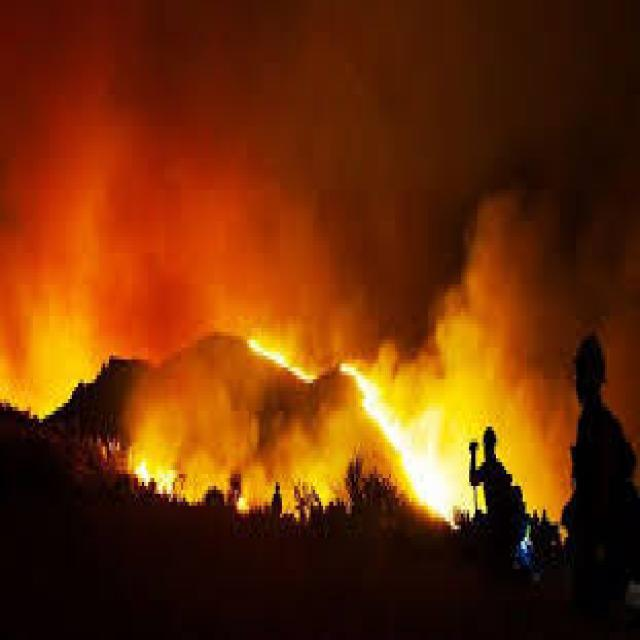Fire: (338, 351, 472, 534), (0, 331, 96, 426), (118, 439, 215, 514), (244, 328, 320, 390), (232, 486, 270, 520)
Smoke: (406, 166, 582, 402)
